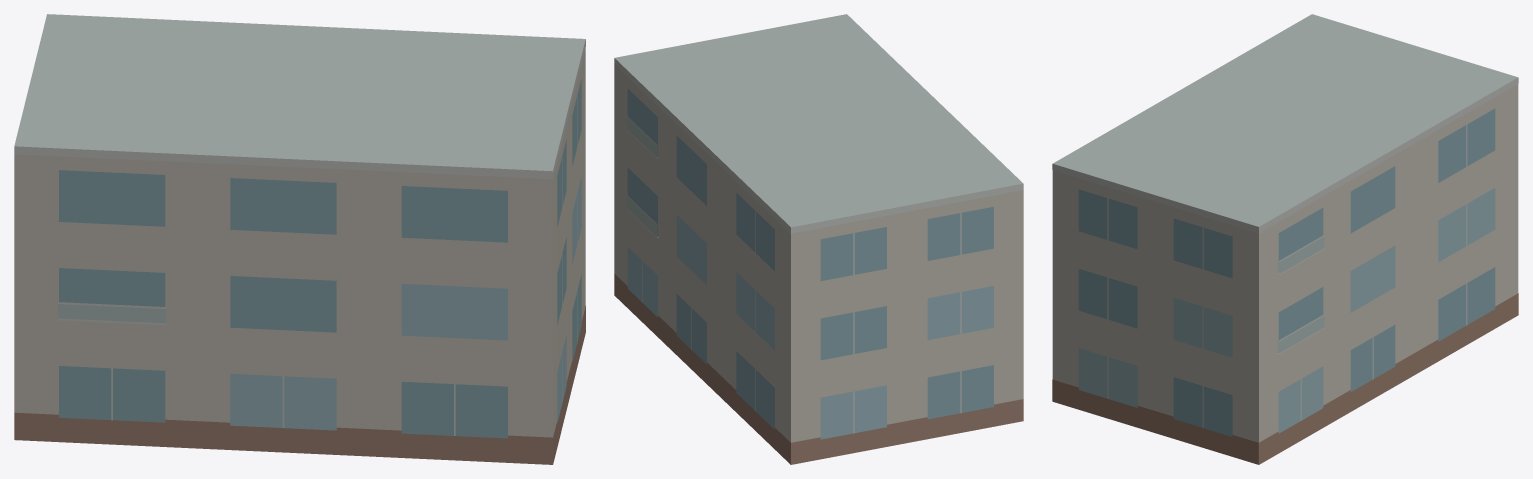
File: survey-upis-33017309.glb
The picture shows the model from 3 angles, left to right: view 1: azimuth 30°, elevation 25°; view 2: azimuth 150°, elevation 25°; view 3: azimuth 270°, elevation 25°; orthographic projection. The views are drawn at different scales.
Visible parts, largest first — view 1: survey-upis-33017309.tmp; view 2: survey-upis-33017309.tmp; view 3: survey-upis-33017309.tmp.
Part boxes in pixels (left/top/right/bottom): survey-upis-33017309.tmp: left=14, top=14, right=585, bottom=464; survey-upis-33017309.tmp: left=614, top=14, right=1023, bottom=464; survey-upis-33017309.tmp: left=1052, top=14, right=1518, bottom=464.
Bounding box in the file's own units: 17.57 × 9.15 × 16.25.
